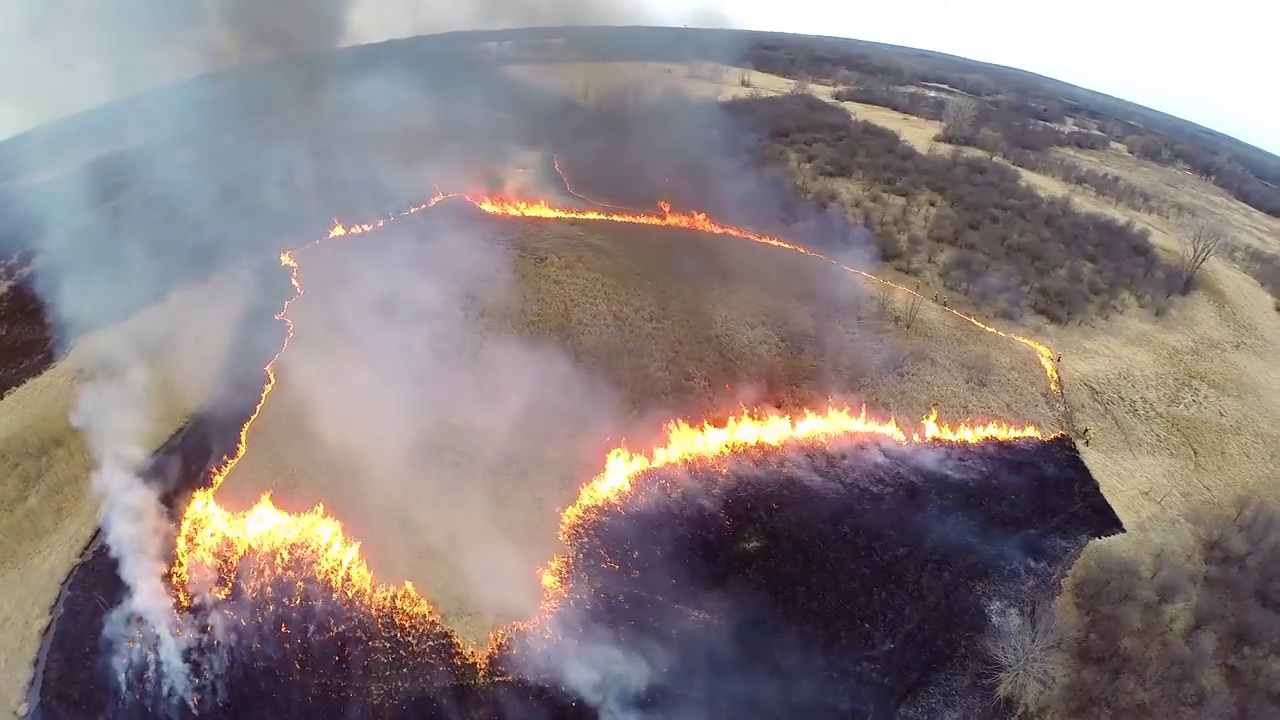forest_fire: (193, 191, 923, 503), (170, 489, 534, 678), (560, 403, 1042, 535), (561, 409, 871, 528), (943, 308, 1061, 395), (944, 308, 1058, 390), (540, 555, 568, 614), (540, 559, 562, 607), (312, 239, 320, 243), (557, 166, 558, 168)
